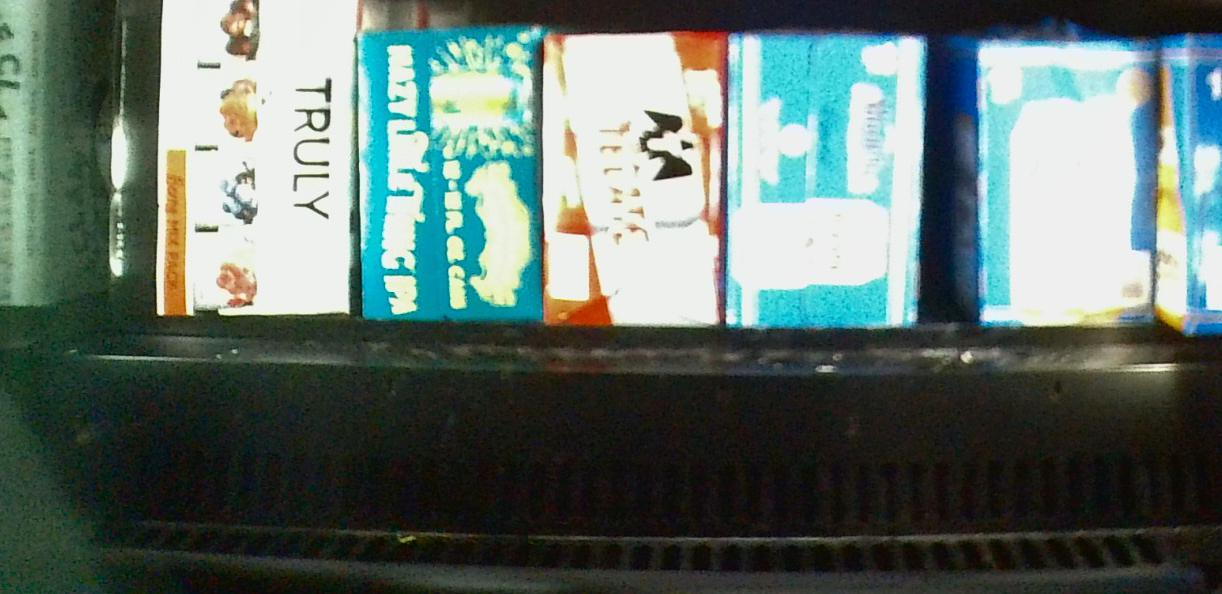bottle: (160, 1, 353, 316), (948, 38, 1154, 330), (725, 33, 919, 332), (359, 26, 543, 323), (543, 32, 722, 327), (1159, 32, 1221, 345)
